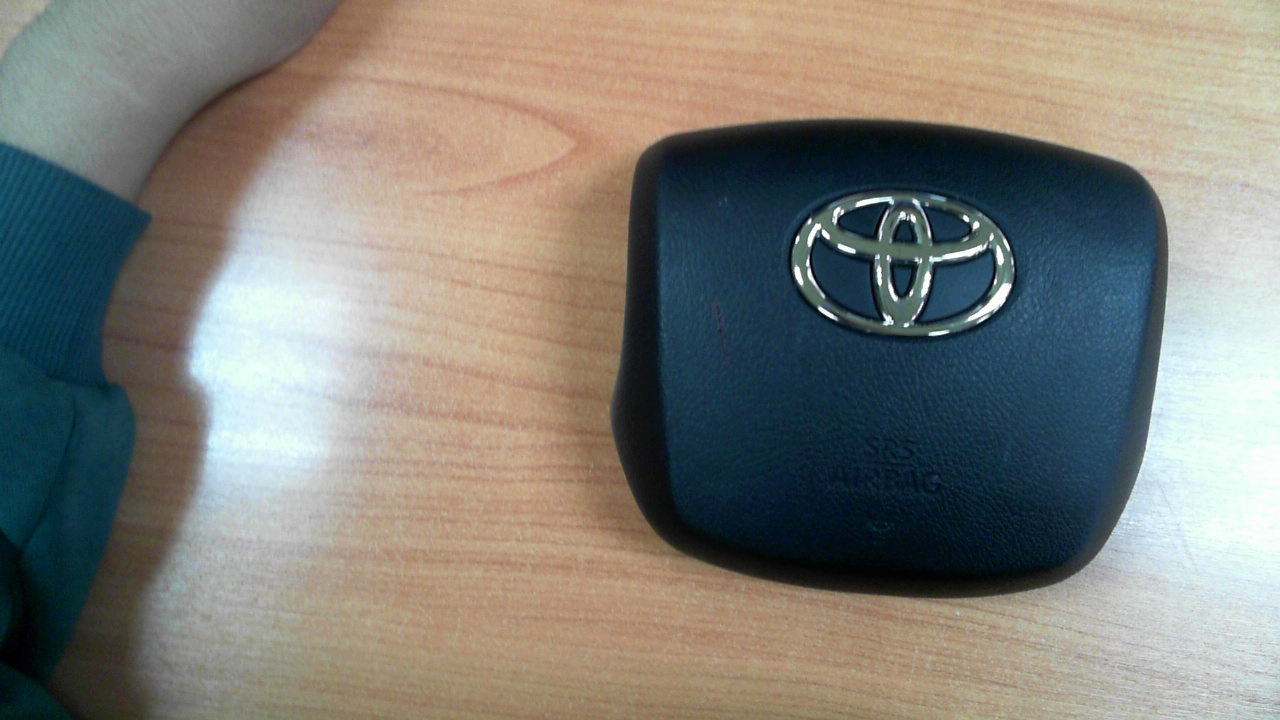Airbag: (613, 121, 1176, 596)
Toyota: (791, 192, 1015, 339)
